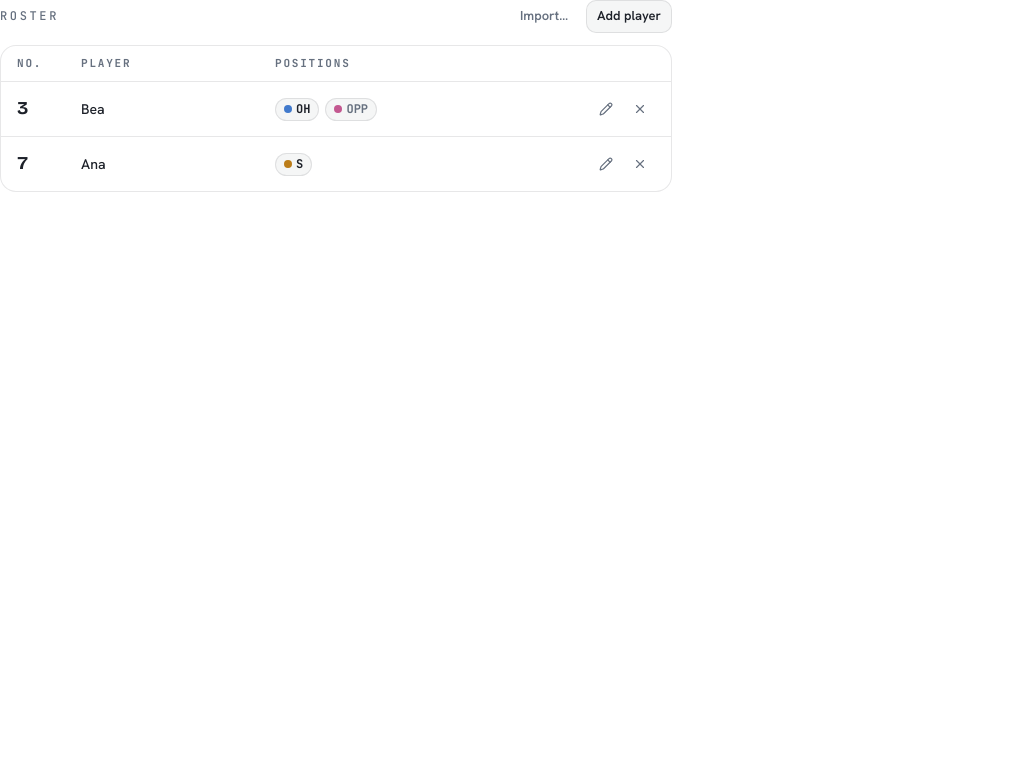
Test case: RosterSection › a coach removes a player by archiving them
Click the button named "Remove #7" at (640, 164), box [625,149,655,179]
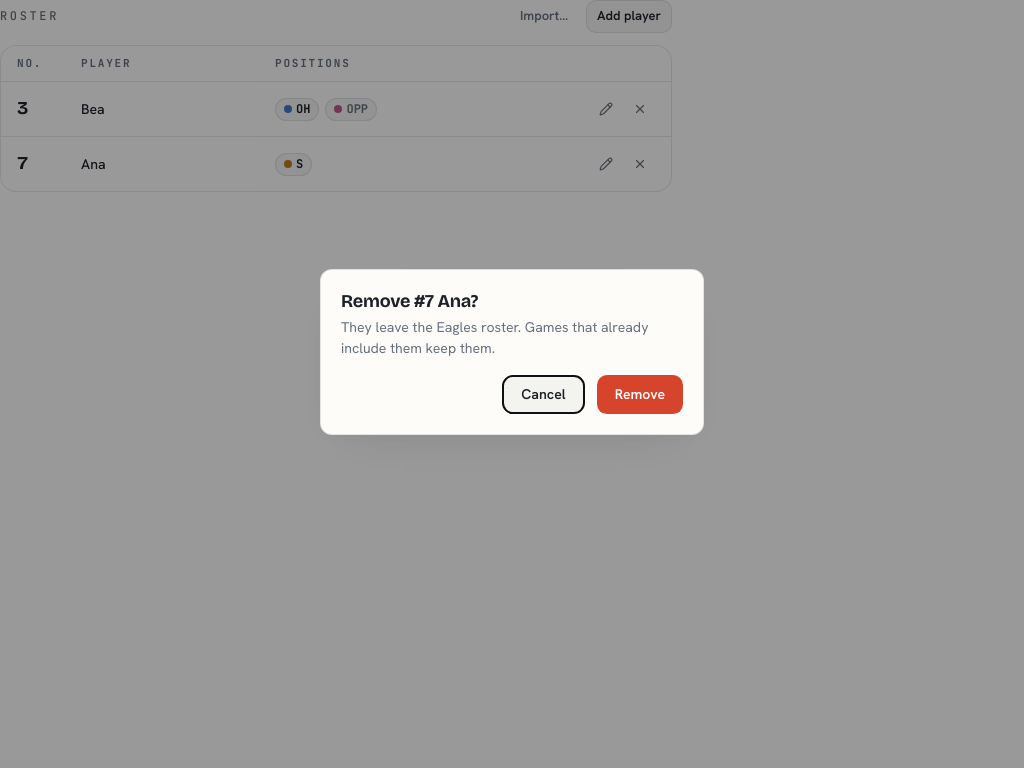
Click the button "Remove" at (640, 394), box [597,375,683,414]
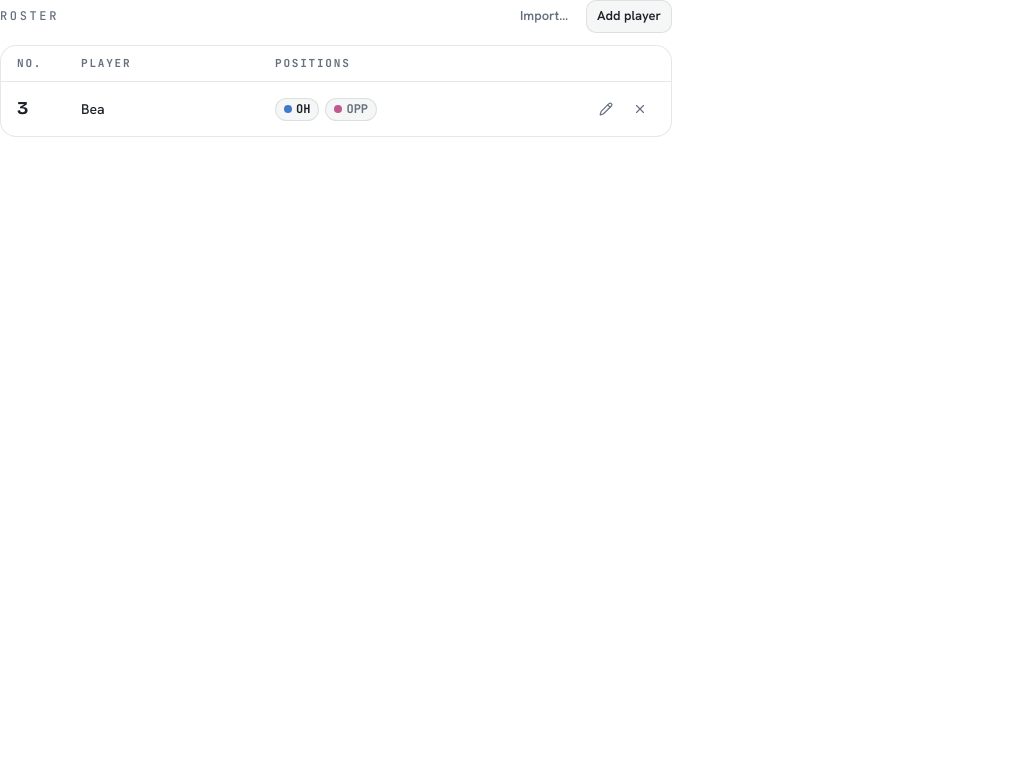
Check: the cell "Ana" is gone
